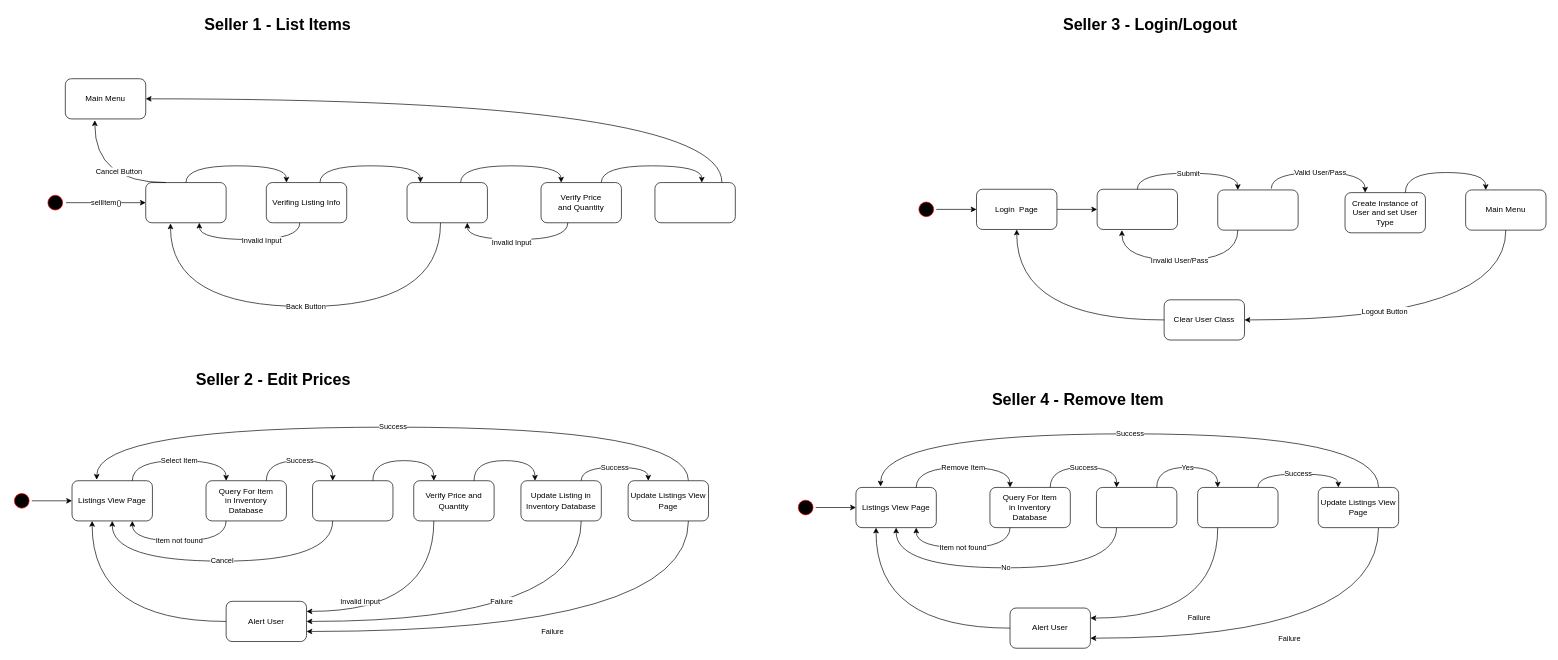
Image size: 1558x660. Some labels were removed from this diagram. The box of each missing label's shape, as (x1, y1, x2, y2) in pixels:
Add Listing To Database: (654, 182, 735, 223)
Confirm Removal: (1096, 487, 1177, 528)
Input Item Listing Info: (145, 182, 226, 223)
Input new Price and Quantity: (312, 480, 393, 521)
Input Price and Quantity: (406, 182, 487, 223)
Input Username and Password: (1096, 189, 1178, 229)
Remove Item from Inventory Database: (1197, 487, 1278, 528)
Verify User/Pass Combo in Database: (1217, 189, 1298, 230)
